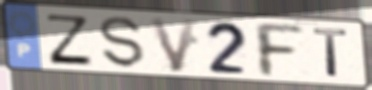2: (205, 18, 252, 78)
F: (250, 20, 307, 79)
S: (97, 15, 147, 71)
T: (310, 26, 351, 80)
V: (146, 16, 200, 74)
Z: (45, 12, 95, 68)
